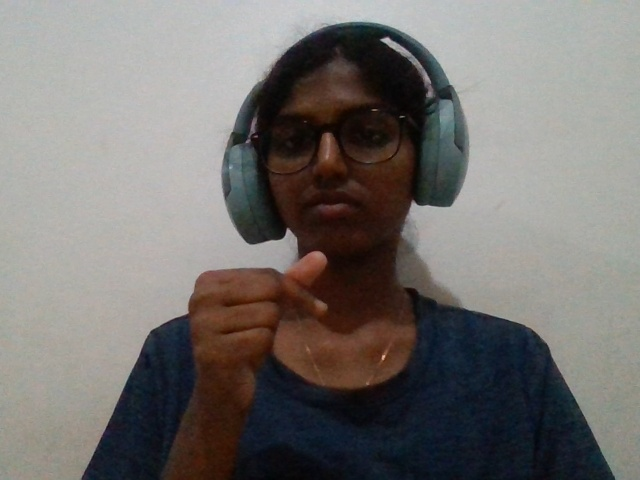G: (163, 234, 342, 480)
